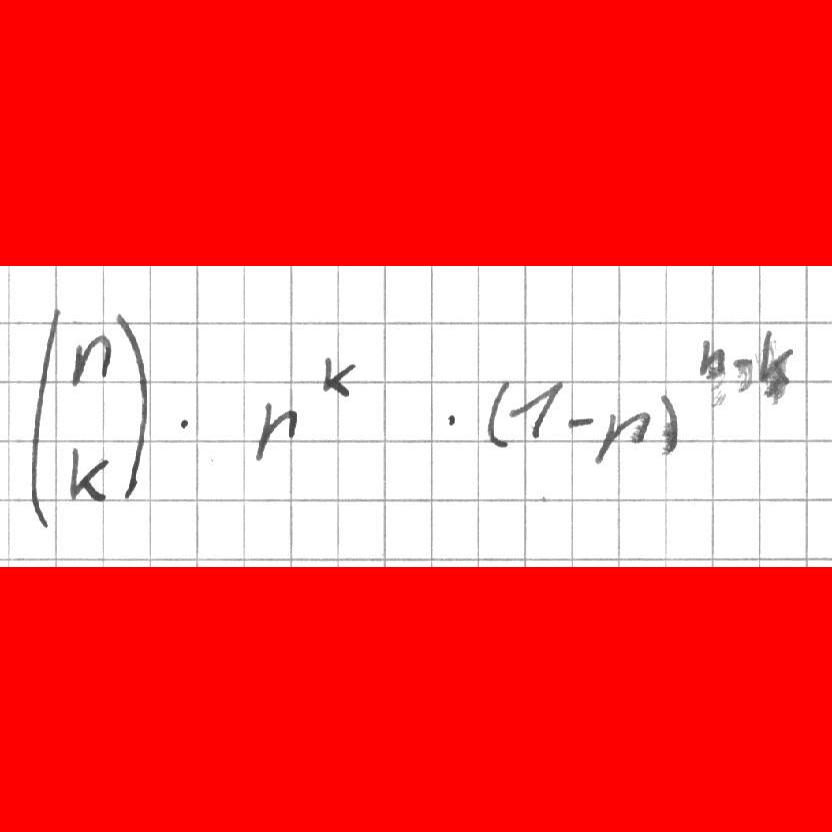Char: (24, 302, 62, 531), (116, 304, 156, 505), (247, 385, 306, 460), (507, 377, 566, 443), (590, 404, 655, 463), (62, 433, 114, 502), (60, 326, 114, 389), (756, 324, 797, 392), (311, 349, 361, 400), (485, 379, 517, 446), (658, 388, 685, 451), (696, 331, 728, 381), (169, 404, 205, 445), (562, 409, 600, 435), (442, 401, 466, 434), (731, 348, 755, 375)
